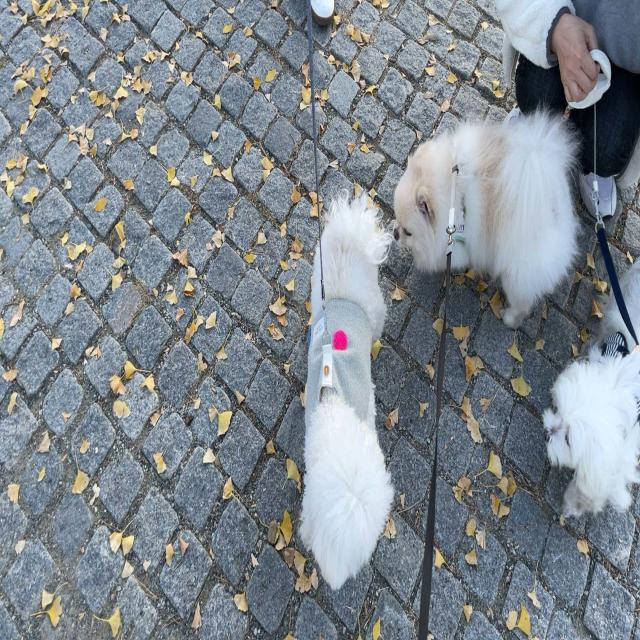Dog: (393, 94, 585, 329), (301, 188, 396, 589), (542, 343, 640, 523)
